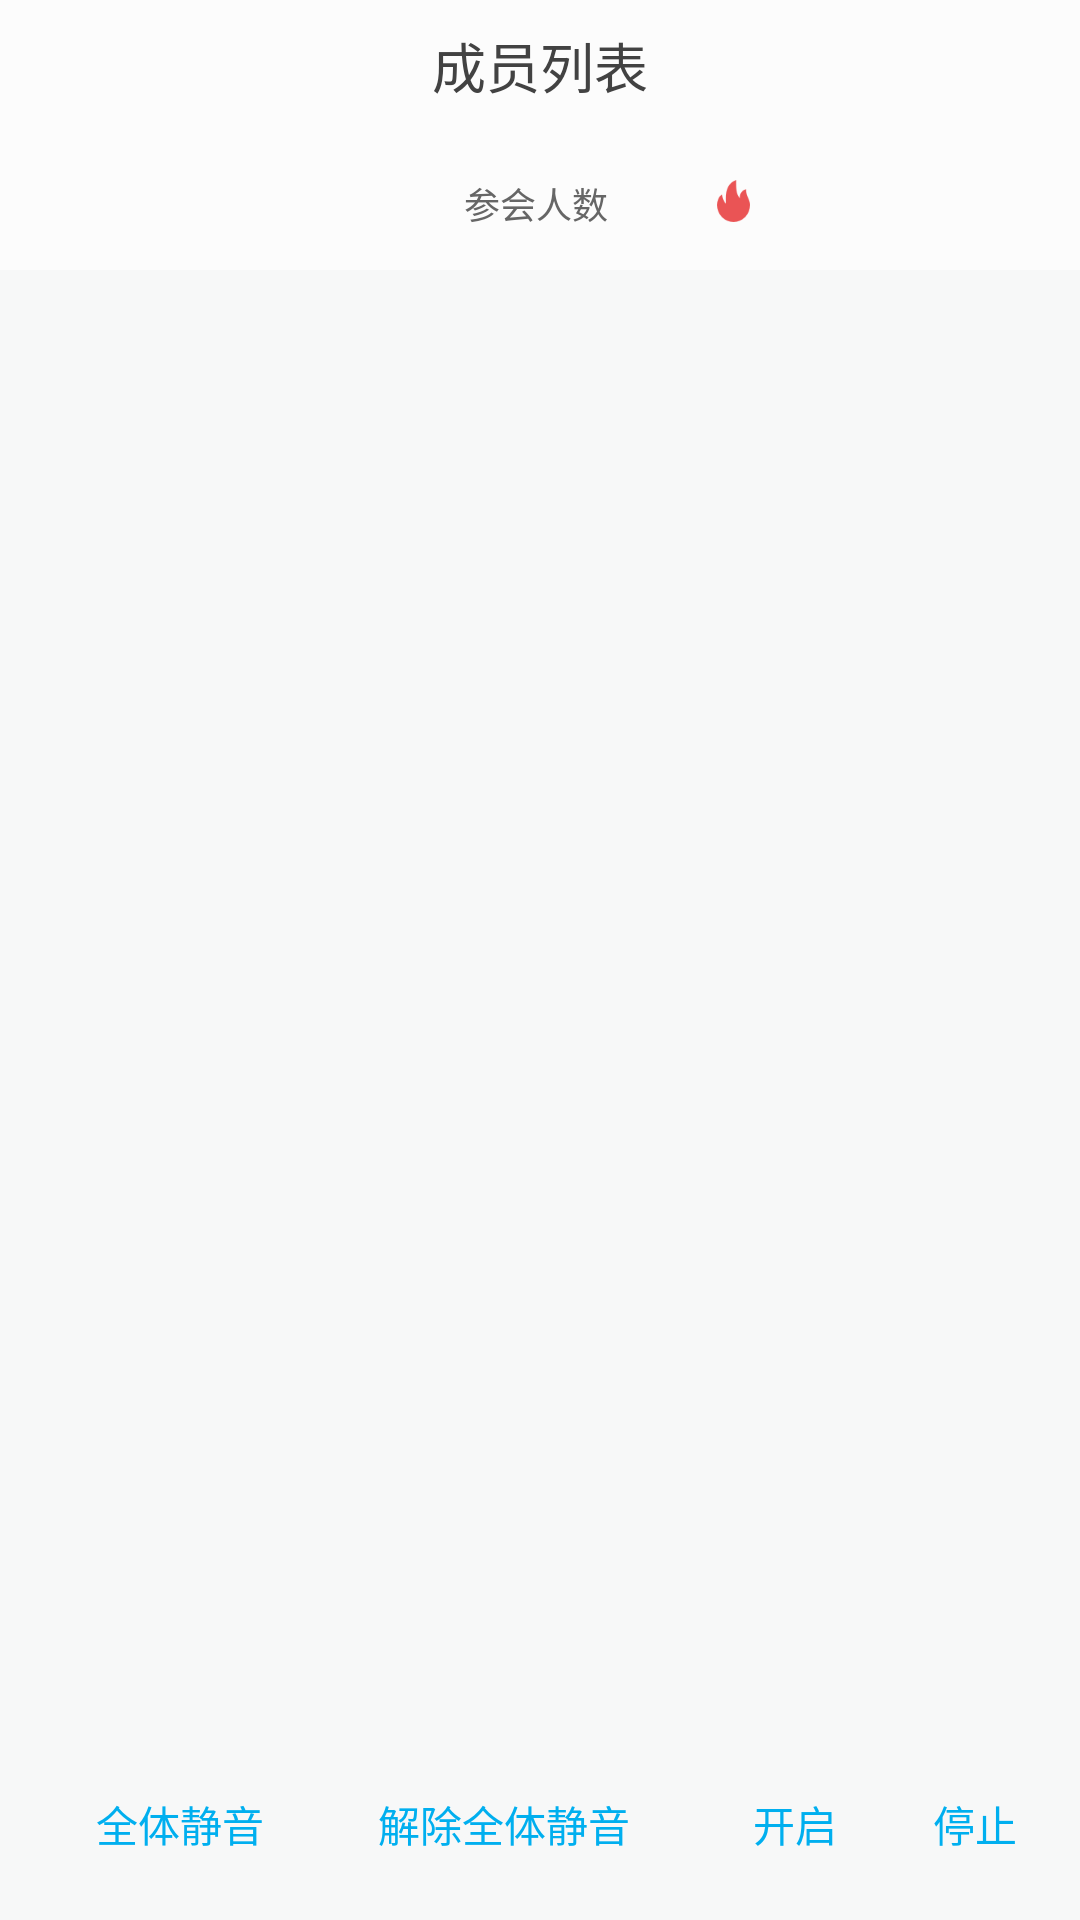

Named icons in this screenshot (1080*1920) and their centers, point (x, y):
em hot show: point (733, 201)
